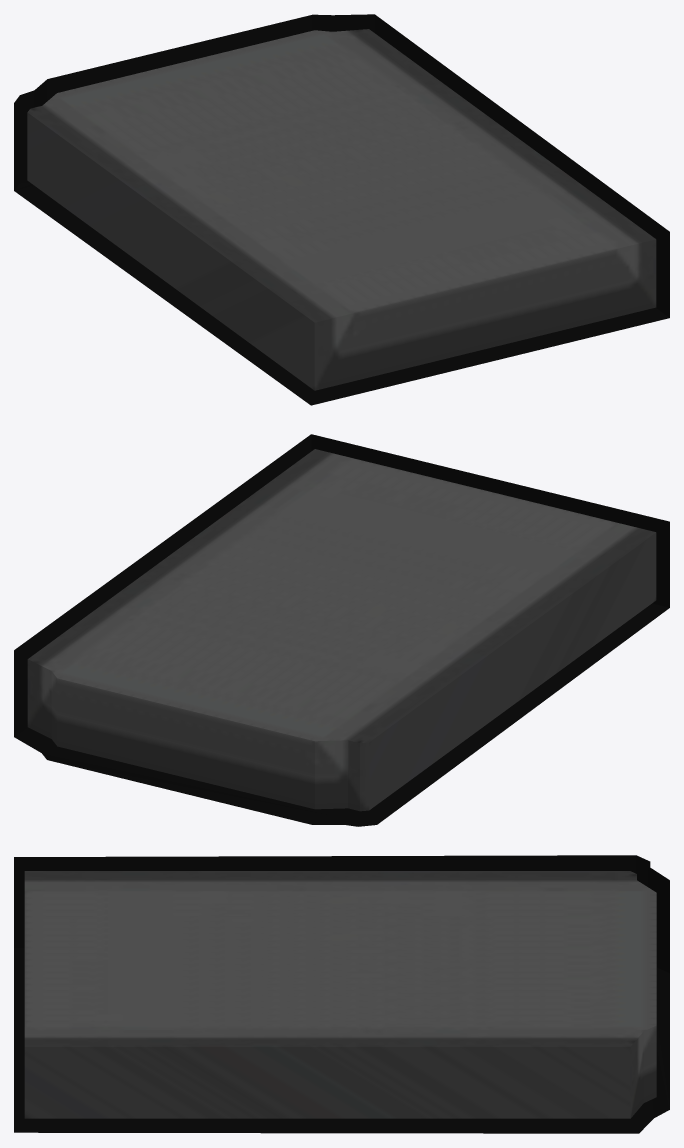
The model's file is Building_Turret_RocketswarmLauncher_Things_Building_Security_TurretHeavy_Base.glb.
The picture shows the model from 3 angles, top to bottom: view 1: azimuth 30°, elevation 25°; view 2: azimuth 150°, elevation 25°; view 3: azimuth 270°, elevation 25°; orthographic projection. The views are drawn at different scales.
Visible parts, largest first — view 1: Body, Outline; view 2: Body, Outline; view 3: Body, Outline.
Part boxes in pixels (<box>): Body: <box>27,29,656,390</box>; Outline: <box>14,14,669,405</box>; Body: <box>27,449,656,811</box>; Outline: <box>14,434,669,826</box>; Body: <box>24,871,656,1118</box>; Outline: <box>14,855,669,1133</box>.
Size of the model in its own units: 0.944 by 0.2306 by 1.4.
Materials: 2 (1 with a texture image).
